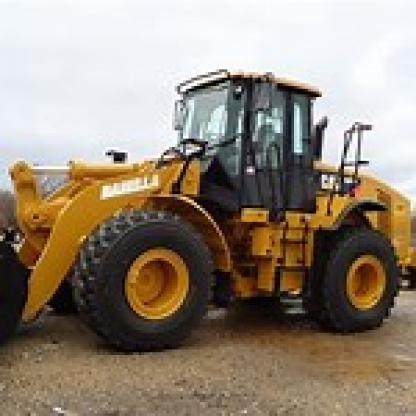bull_dozer/loader/grader: (0, 42, 413, 355)
